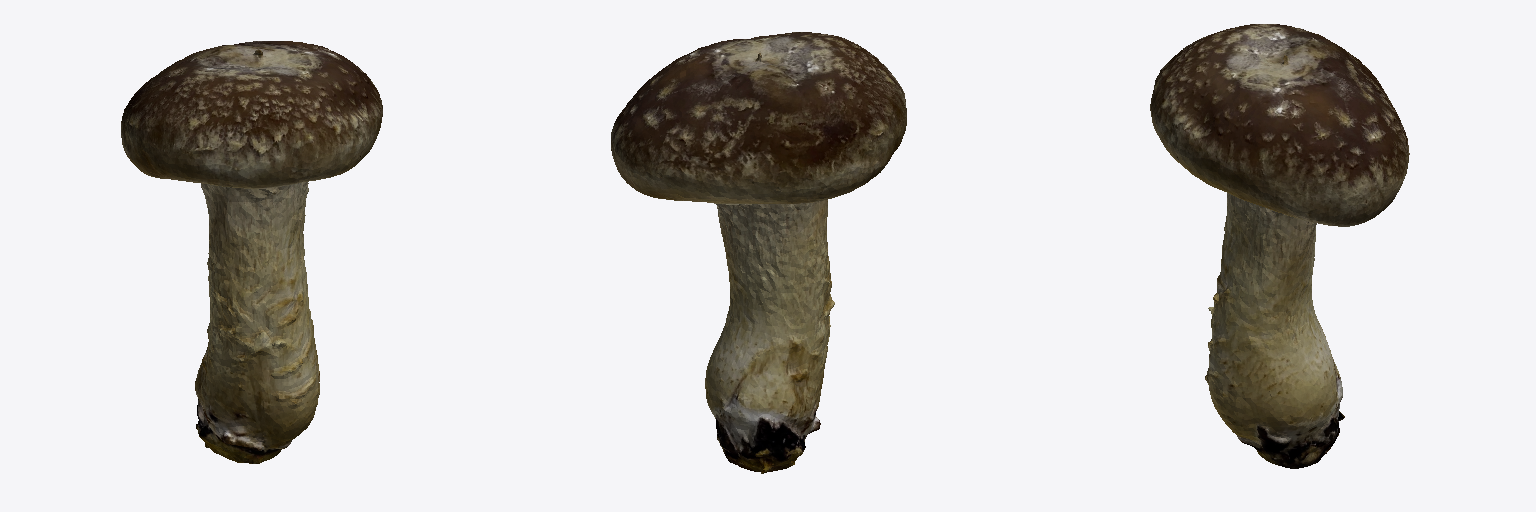
3 views of the same model, side by side, from view 1: azimuth 30°, elevation 25°; view 2: azimuth 150°, elevation 25°; view 3: azimuth 270°, elevation 25° (orthographic).
Visible parts, largest first — view 1: Mushroom_geometry6.001; view 2: Mushroom_geometry6.001; view 3: Mushroom_geometry6.001.
Part boxes in pixels (left/top/right/bottom): Mushroom_geometry6.001: left=121, top=41, right=382, bottom=463; Mushroom_geometry6.001: left=611, top=32, right=906, bottom=473; Mushroom_geometry6.001: left=1150, top=24, right=1409, bottom=468.
Size of the model in its own units: 0.0538 by 0.0856 by 0.0494.
1 materials, 1 textured.